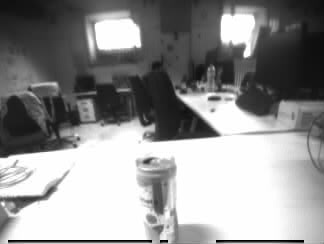Bottle: (206, 64, 215, 91)
Tin can: (136, 154, 181, 244)
